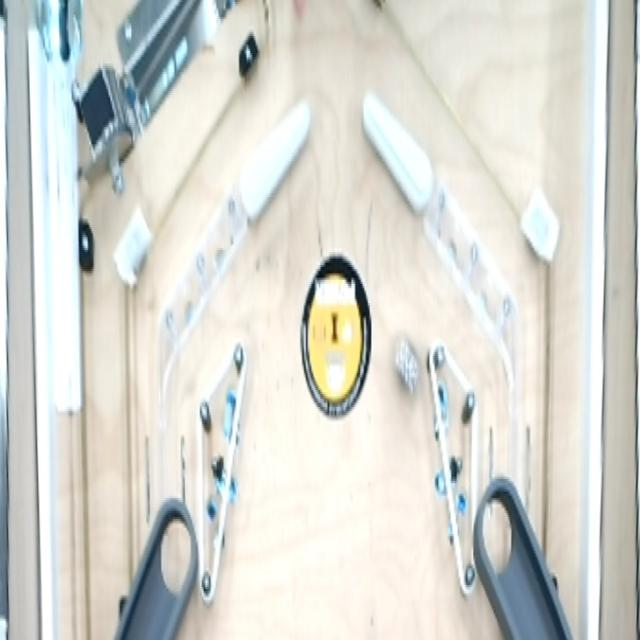ball: (390, 327, 425, 407)
flipper-left: (357, 82, 438, 236)
flipper-right: (237, 90, 317, 238)
